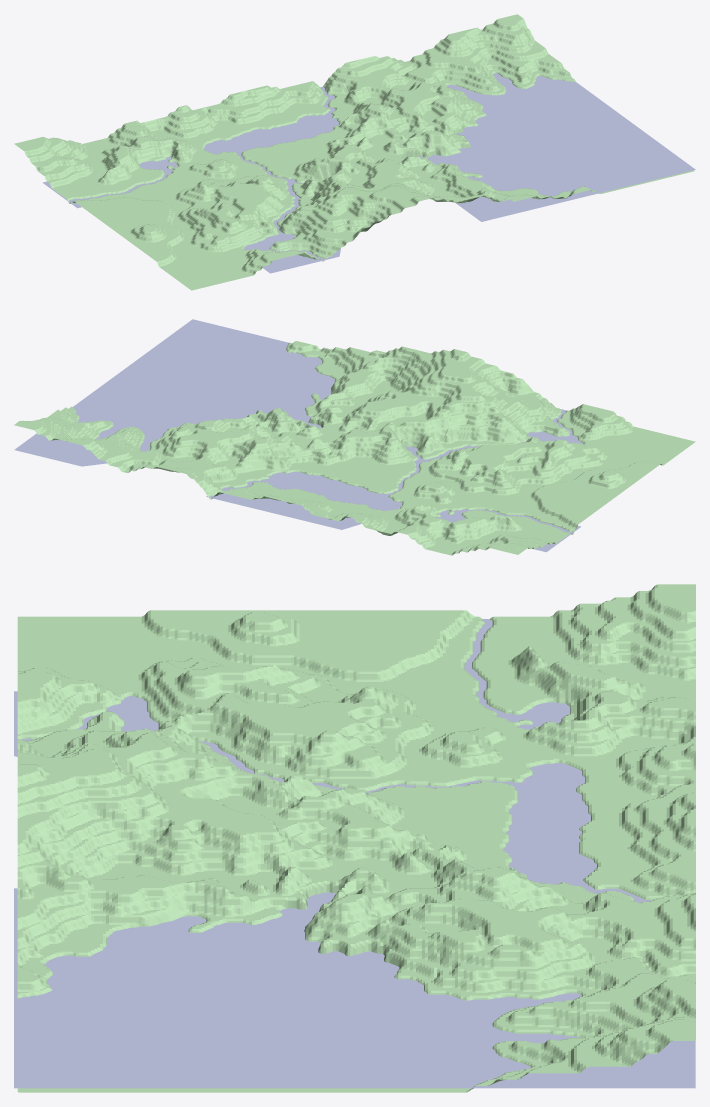
Rendered from wander_map_1.glb.
3 views of the same model, one above another, from view 1: azimuth 30°, elevation 25°; view 2: azimuth 150°, elevation 25°; view 3: azimuth 270°, elevation 25° (orthographic). The views are drawn at different scales.
Visible parts, largest first — view 1: map_001, water_plane_ocean, water_plane_large, water_plane_small; view 2: map_001, water_plane_ocean, water_plane_large, water_plane_small; view 3: map_001, water_plane_ocean, water_plane_large, water_plane_small.
Boxes of the visible parts, x1,y1,x2,y2 form: map_001: (14, 14, 694, 290); water_plane_ocean: (404, 73, 695, 221); water_plane_large: (204, 86, 340, 273); water_plane_small: (43, 156, 177, 208); map_001: (14, 341, 695, 555); water_plane_ocean: (14, 319, 334, 466); water_plane_large: (206, 409, 583, 529); water_plane_small: (435, 509, 580, 552); map_001: (17, 584, 695, 1092); water_plane_ocean: (14, 888, 695, 1088); water_plane_large: (14, 691, 652, 902); water_plane_small: (464, 619, 570, 729).
Size of the model in its own units: 373 by 26.19 by 229.
